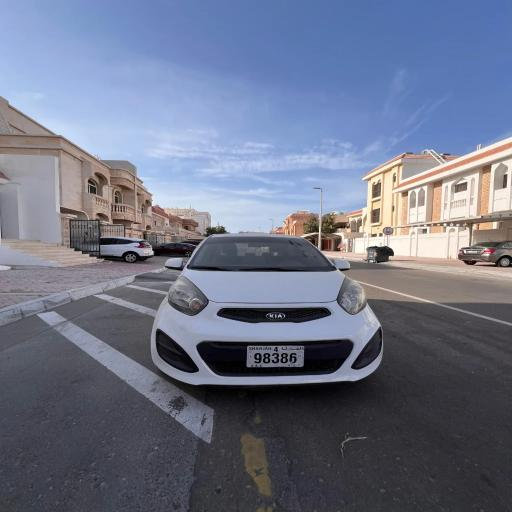license-plates: (246, 345, 305, 368)
